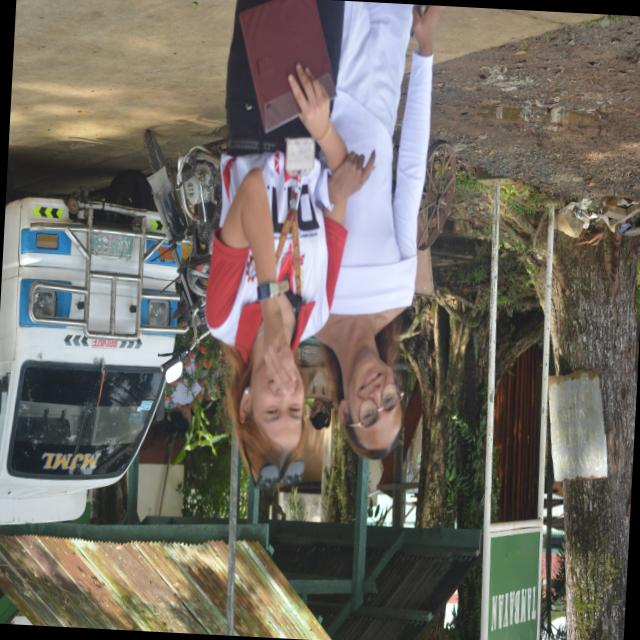person: (205, 0, 345, 487), (316, 1, 439, 458), (309, 398, 331, 429)
